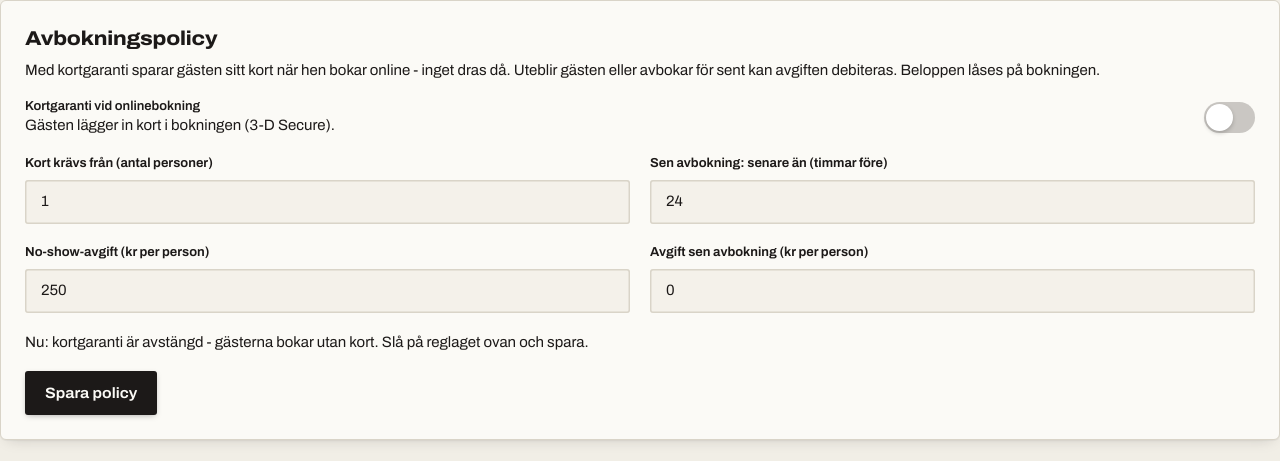
it: CancellationPolicyCard › turns the card guarantee on with fees and a cutoff
Click the switch named "Kortgaranti vid onlinebokning": (1230, 117) x1=1204 y1=102 x2=1255 y2=133
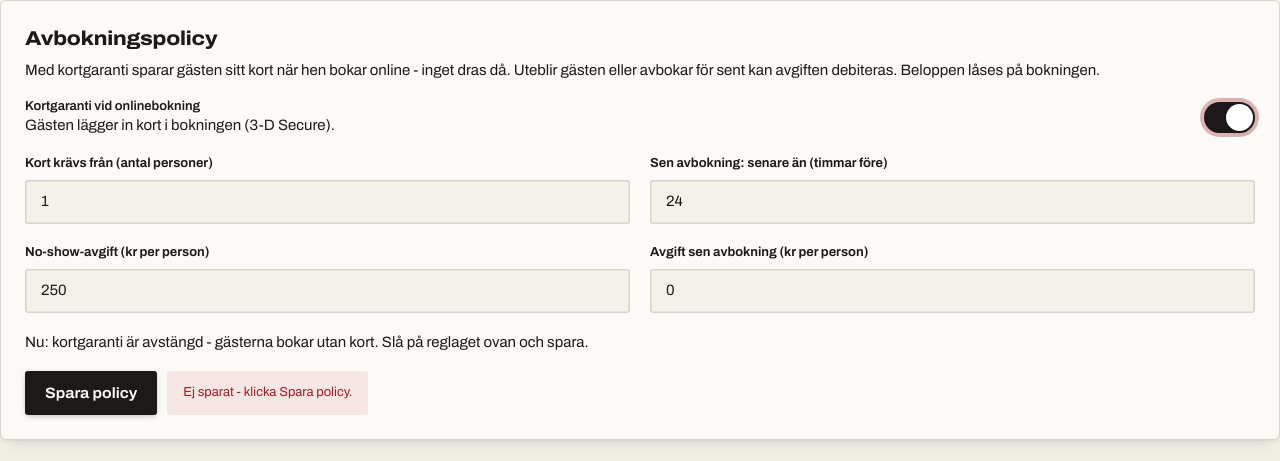
Replace the text in the field labelled "Kort krävs från (antal personer)" with "4": (328, 202) x1=25 y1=180 x2=630 y2=224
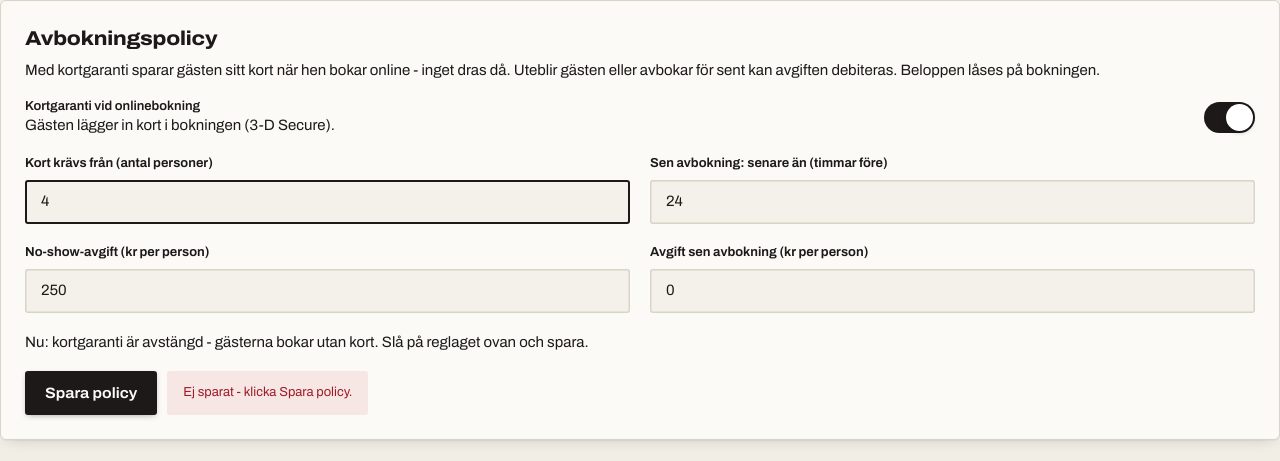
Replace the text in the field labelled "Avgift sen avbokning (kr per person)" with "100": (952, 291) x1=650 y1=269 x2=1255 y2=313
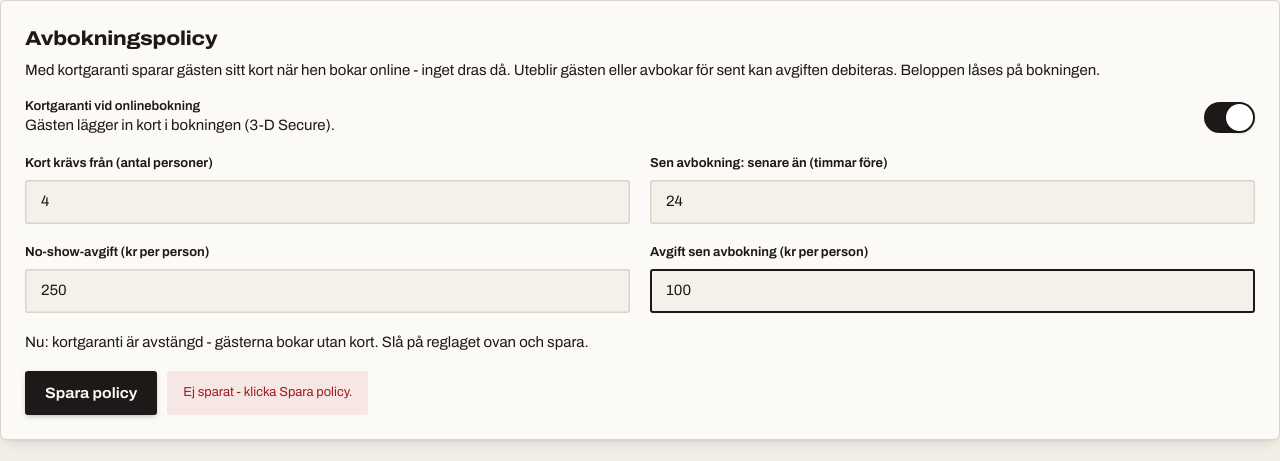
Click the button "Spara policy": (91, 393) x1=25 y1=371 x2=157 y2=415
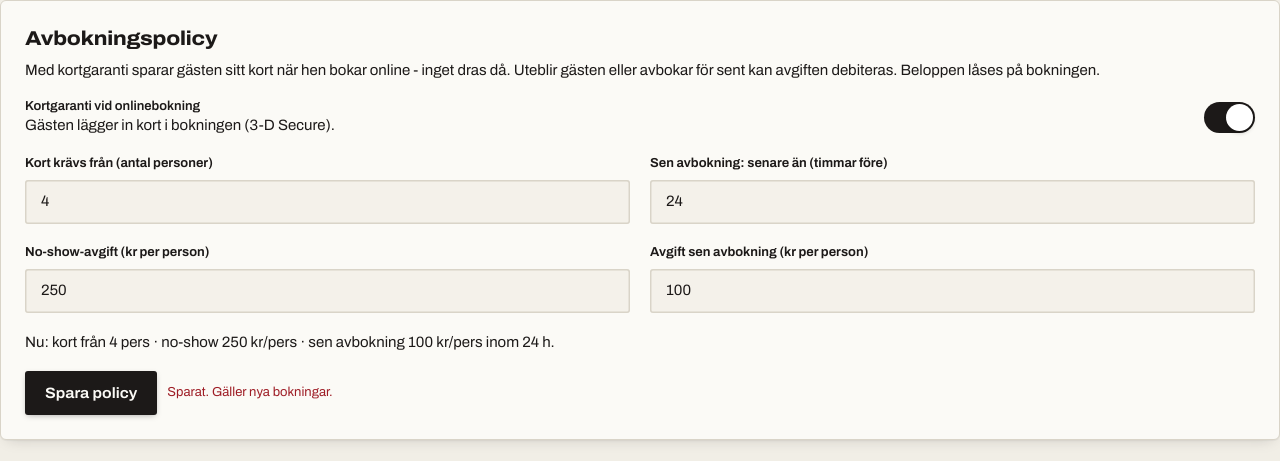
Expected: the text "Sparat. Gäller nya bokningar." is shown, x1=167 y1=383 x2=333 y2=403
Expected: the text "kort från 4 pers" is shown, x1=25 y1=334 x2=555 y2=350
